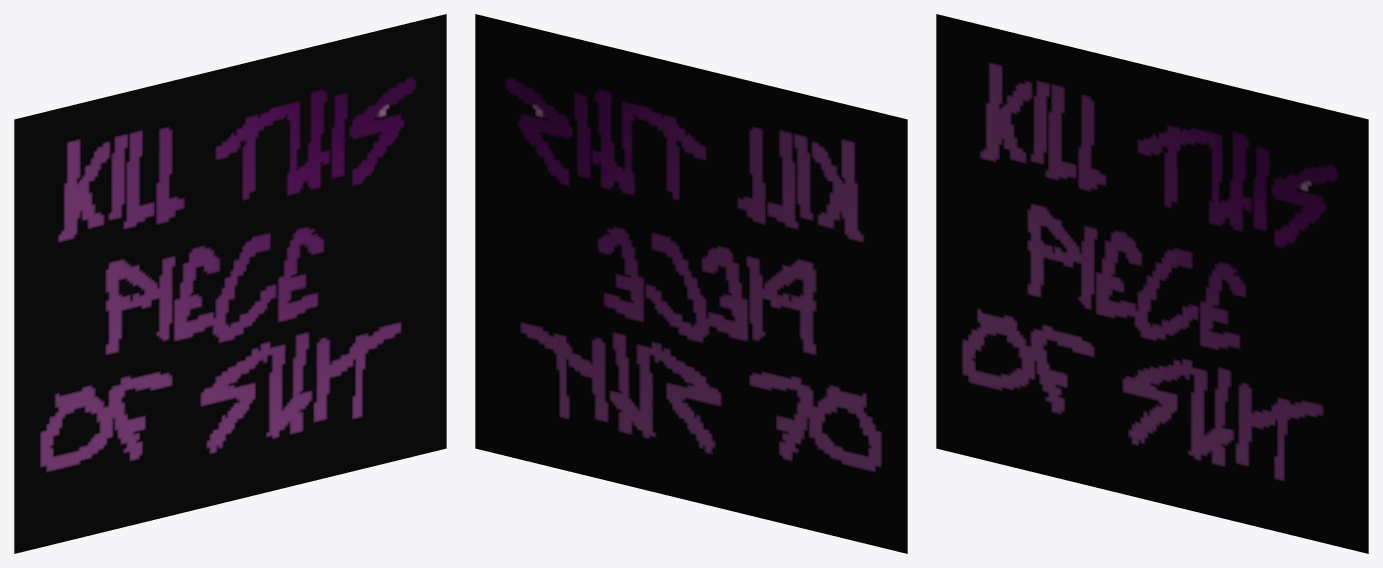
Rendered from kill_graffiti_text.FBX.
3 views of the same model, side by side, from view 1: azimuth 30°, elevation 25°; view 2: azimuth 150°, elevation 25°; view 3: azimuth 330°, elevation 25° (orthographic).
Parts seen in each view (by area): view 1: kill_graffiti_text; view 2: kill_graffiti_text; view 3: kill_graffiti_text.
Part boxes in pixels (left/top/right/bottom): kill_graffiti_text: left=14, top=14, right=446, bottom=553; kill_graffiti_text: left=475, top=14, right=907, bottom=553; kill_graffiti_text: left=936, top=14, right=1368, bottom=553.
Size of the model in its own units: 43.77 by 42.05 by 1.1e-05.
